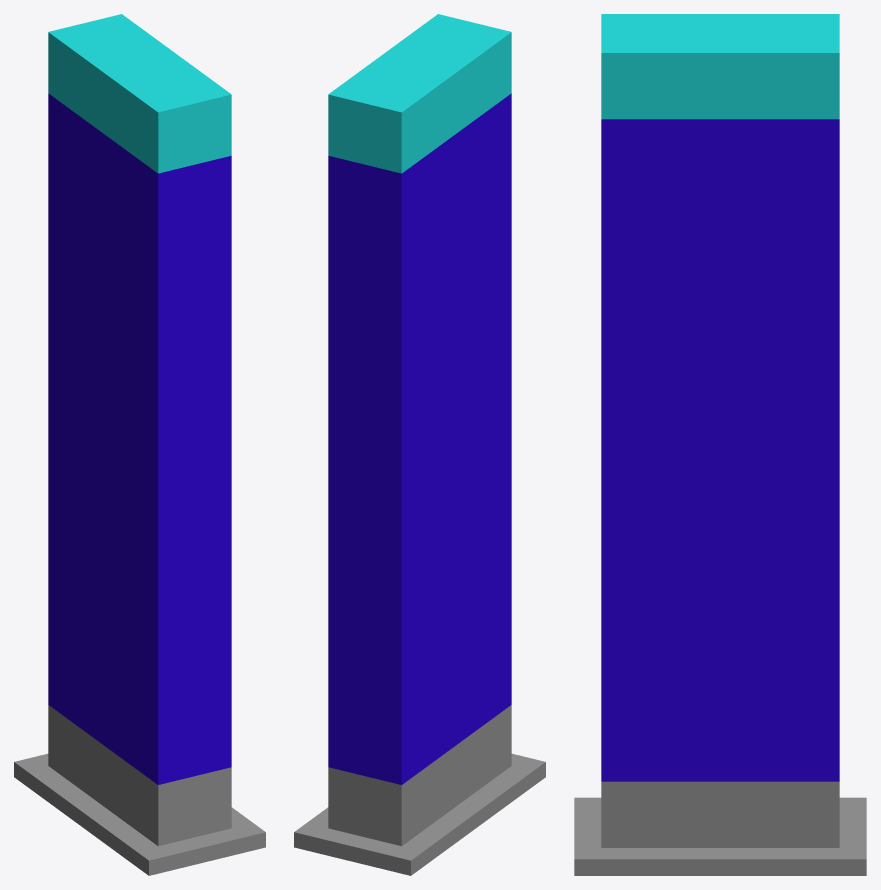
File: CourtyardMap.fbx
The picture shows the model from 3 angles, left to right: view 1: azimuth 30°, elevation 25°; view 2: azimuth 150°, elevation 25°; view 3: azimuth 270°, elevation 25°; orthographic projection. The views are drawn at different scales.
Parts seen in each view (by area): view 1: Courtyard Map; view 2: Courtyard Map; view 3: Courtyard Map.
Boxes of the visible parts, x1=… form: Courtyard Map: x1=14, y1=14, x2=265, y2=875; Courtyard Map: x1=294, y1=14, x2=545, y2=875; Courtyard Map: x1=574, y1=14, x2=866, y2=875.
Size of the model in its own units: 200 by 1225 by 400.
